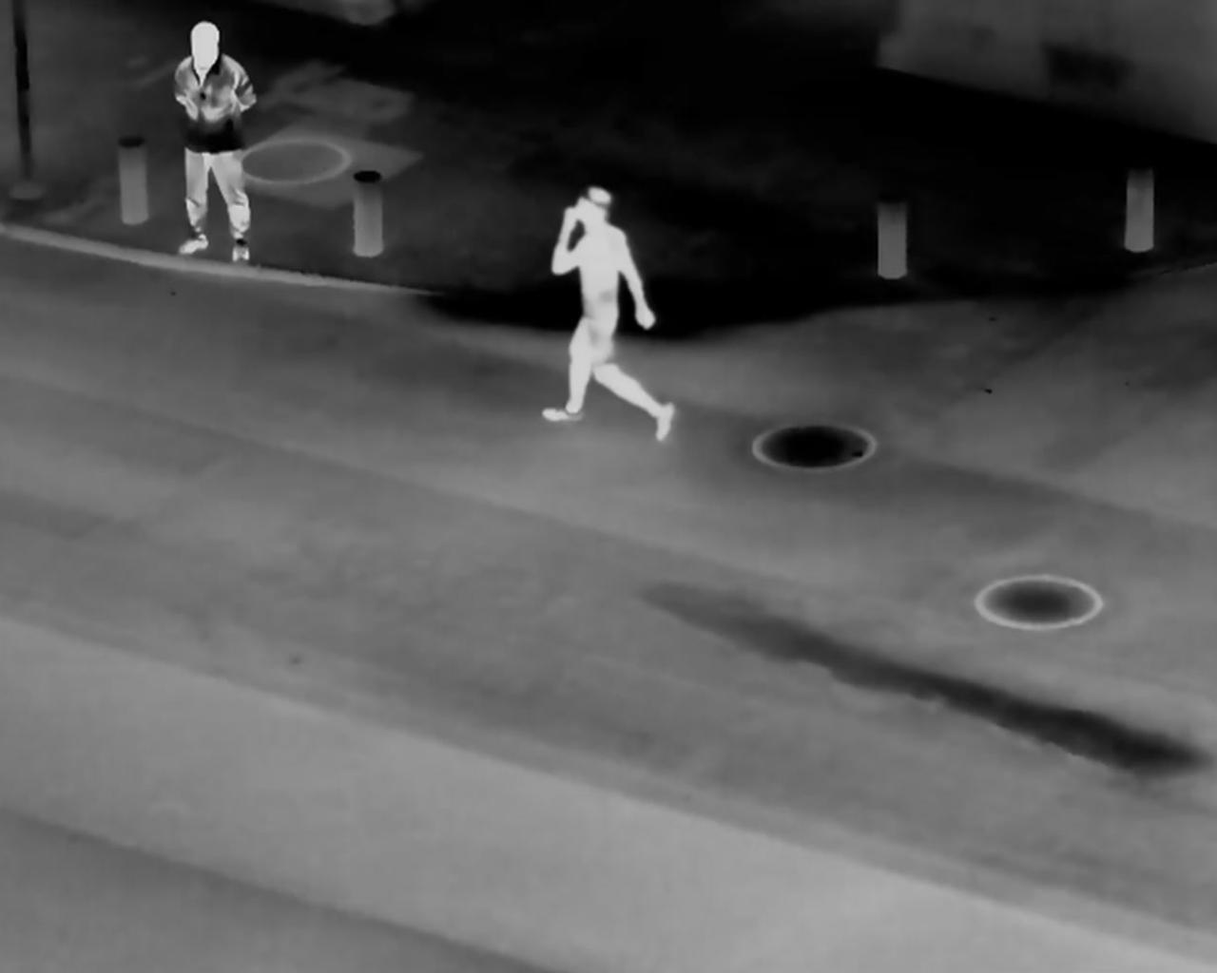person: (528, 178, 689, 451), (164, 16, 260, 275)
